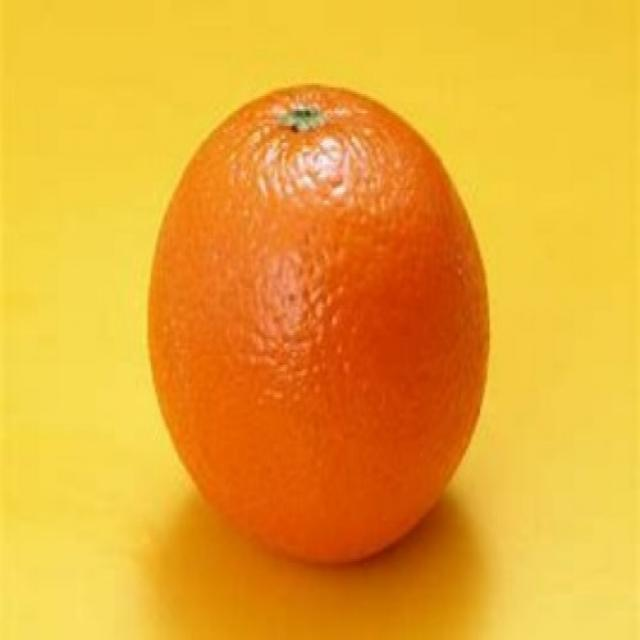Orange: (148, 82, 490, 566)
